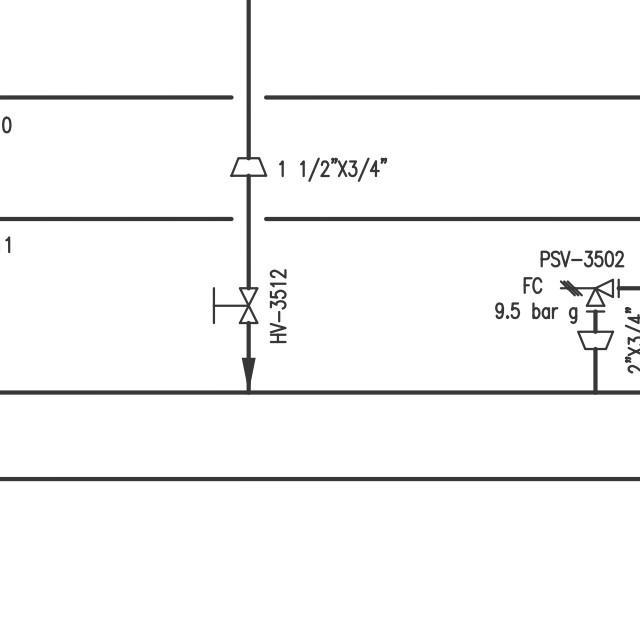HVWT: (202, 277, 261, 330)
RPV: (548, 275, 624, 317)
SP: (227, 151, 269, 183), (572, 325, 617, 352)
